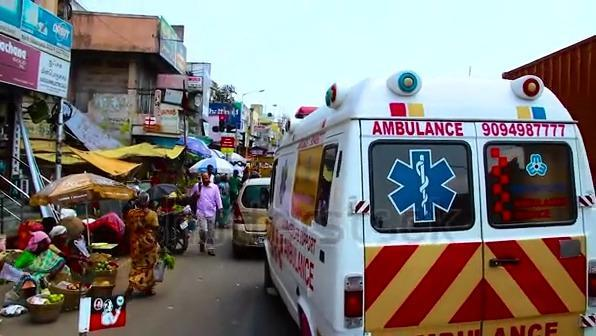Ambulance: (384, 143, 459, 224), (370, 119, 467, 139)
